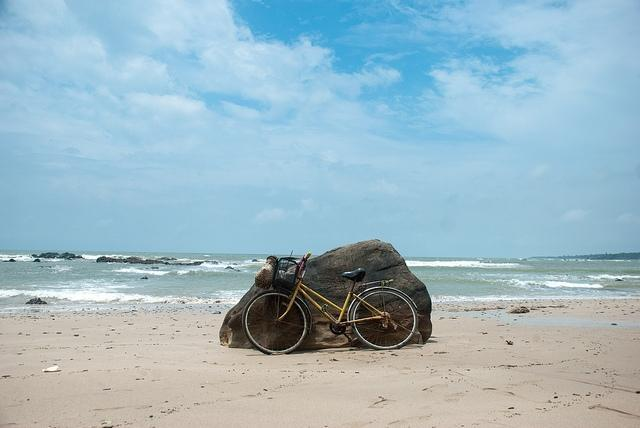bicycle: (240, 250, 420, 357)
